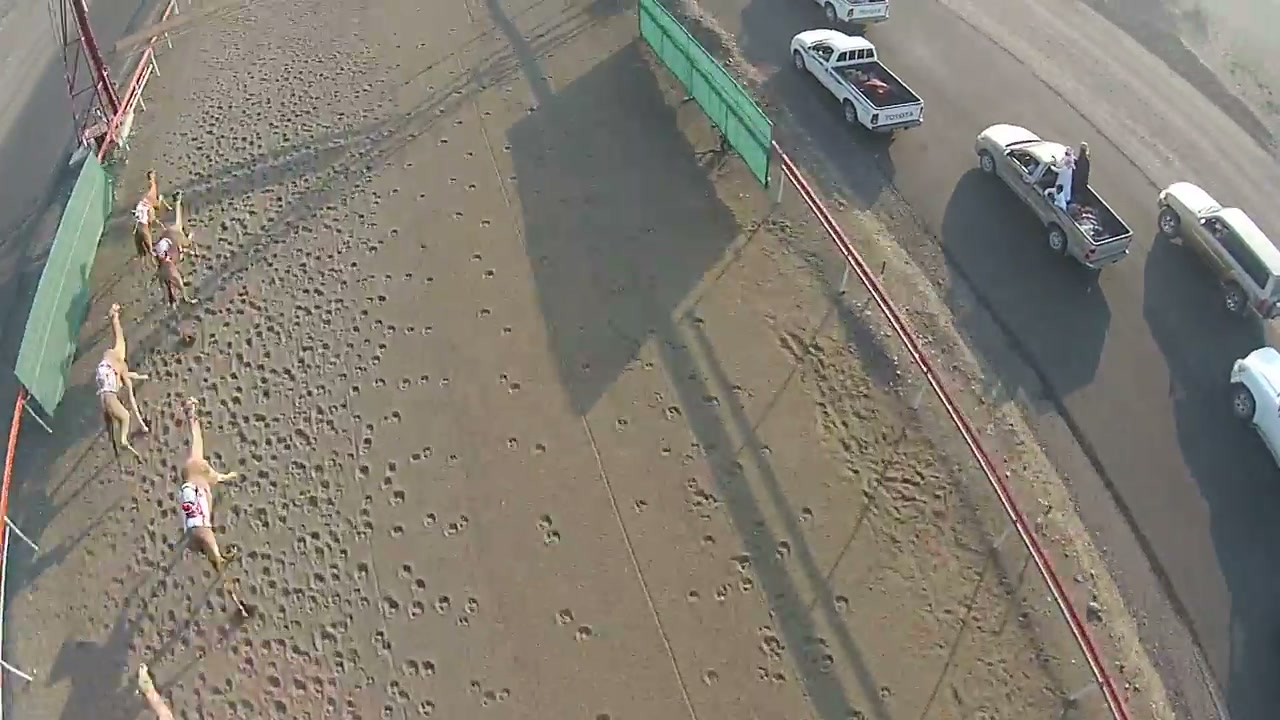animal_footprint: (124, 82, 459, 713), (434, 128, 622, 704), (597, 269, 817, 697), (368, 98, 489, 524)
